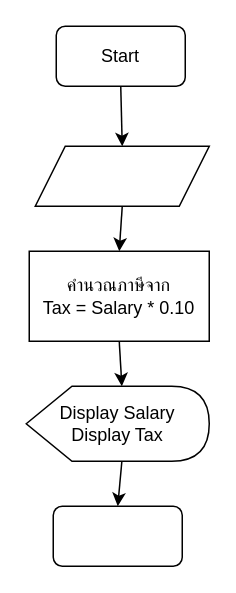
The diagram is 236 pixels wide and 593 high, and some of its shapes have lost their labels. The shapes that lost their labels are listed below. From the top down, each one's centre as x and y in pixels, then its label:
At pixel 121 175: "รับค่าเงินเดือน".
At pixel 117 535: "End".
